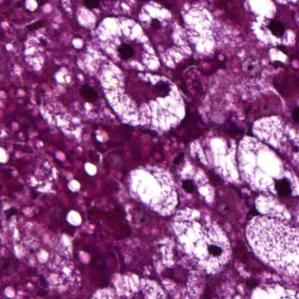ballooning: (89, 59, 190, 137), (233, 133, 299, 198), (94, 13, 163, 75)
